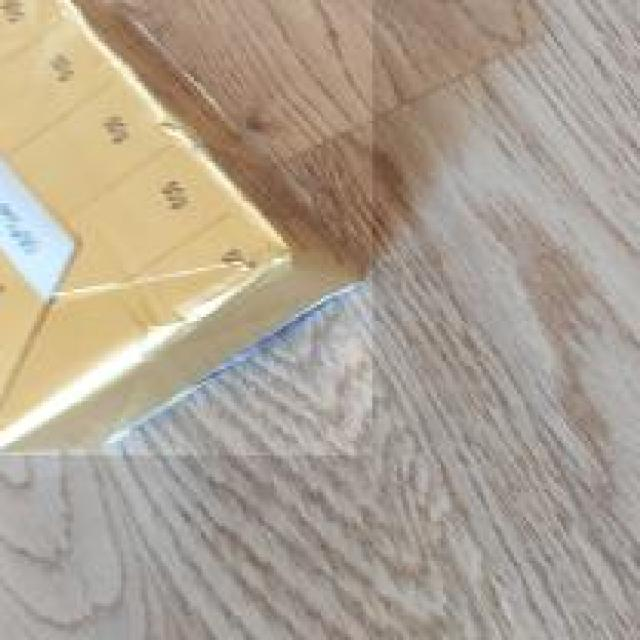butter: (0, 0, 375, 458)
